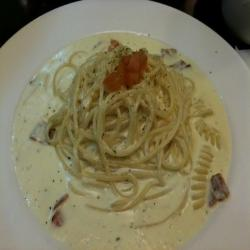carbonara: (30, 40, 219, 218)
